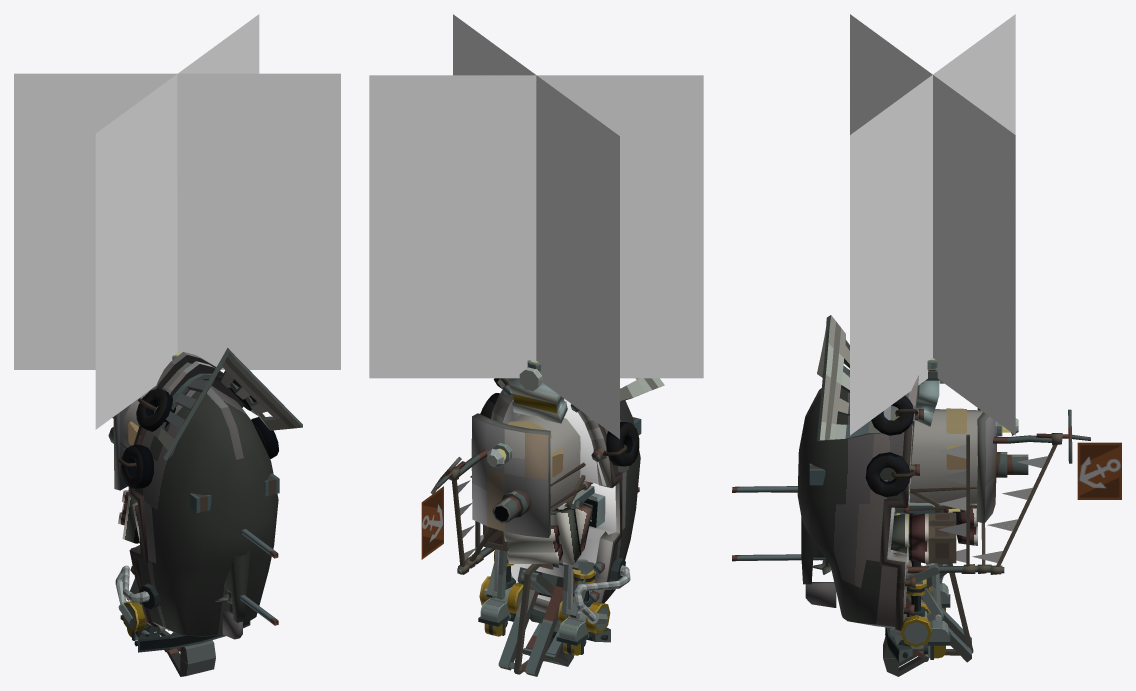
Rendered from PlayerBoat2.fbx.
The picture shows the model from 3 angles, left to right: view 1: azimuth 30°, elevation 25°; view 2: azimuth 150°, elevation 25°; view 3: azimuth 270°, elevation 25°; orthographic projection. The views are drawn at different scales.
Parts seen in each view (by area): view 1: Beam1, Boat1.001, BackFace, Beam2, IcebreakerModelPart1, IcebreakerModelPart2, IronhavenTrawl_Body, DredgeBucketMesh, LanternModel.001, LanternModel.002, IronhavenTrawl_VacuumHead, TrawlFrame (+2 smaller); view 2: BackFace, Beam2, Beam1, Boat1.001, Dredge, FoamMask, IronhavenTrawl_Body, SalvageFrame (1), Container10, Container11, IronhavenTrawl_BodyRotator, Flag (+10 smaller); view 3: Beam1, Boat1.001, Beam2, BackFace, IcebreakerModelPart1, Flag, LongBunting, LanternModel.004, Dredge, SalvageFrame (1), Container9, LanternModel.003 (+10 smaller).
Boxes of the visible parts, box(x1,y1,x2,y2) form: Beam1: box(14, 73, 340, 369); Boat1.001: box(108, 386, 278, 636); BackFace: box(95, 88, 177, 429); Beam2: box(96, 14, 259, 403); IcebreakerModelPart1: box(152, 348, 302, 460); IcebreakerModelPart2: box(149, 352, 243, 412); IronhavenTrawl_Body: box(115, 565, 160, 631); DredgeBucketMesh: box(158, 630, 215, 676); LanternModel.001: box(118, 444, 153, 488); LanternModel.002: box(136, 388, 175, 431); IronhavenTrawl_VacuumHead: box(138, 621, 250, 652); TrawlFrame: box(189, 473, 279, 513); BackFace: box(369, 75, 698, 378); Beam2: box(464, 75, 703, 378); Beam1: box(453, 14, 619, 438); Boat1.001: box(430, 381, 640, 612); Dredge: box(498, 562, 577, 676); FoamMask: box(503, 398, 616, 601); IronhavenTrawl_Body: box(479, 557, 630, 633); SalvageFrame (1): box(484, 549, 594, 618); Container10: box(503, 525, 562, 563); Container11: box(509, 378, 567, 423); IronhavenTrawl_BodyRotator: box(478, 577, 592, 645); Flag: box(421, 486, 443, 559); Beam1: box(850, 14, 1015, 435); Boat1.001: box(797, 373, 1090, 631); Beam2: box(892, 46, 1015, 435); BackFace: box(850, 14, 938, 231); IcebreakerModelPart1: box(817, 315, 880, 441); Flag: box(1077, 442, 1121, 499); LongBunting: box(937, 434, 969, 566); LanternModel.004: box(865, 452, 913, 496); Dredge: box(906, 553, 973, 662); SalvageFrame (1): box(889, 541, 943, 636); Container9: box(928, 526, 956, 563); LanternModel.003: box(871, 395, 917, 435).
Bounding box in the file's own units: 260 × 595 × 353.
Materials: 12 (10 with a texture image).
